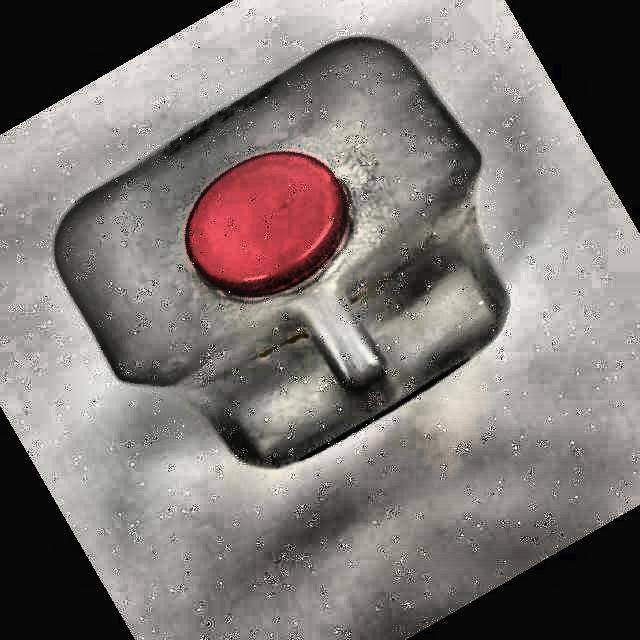plastic: (55, 38, 505, 466)
